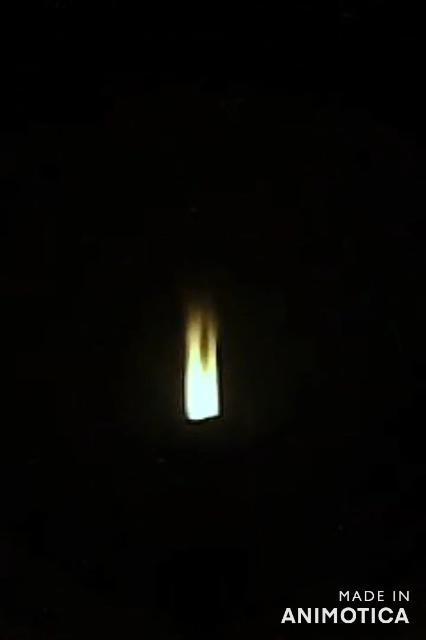burner flame: (182, 304, 222, 422)
